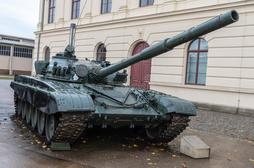t72: (20, 20, 194, 145)
